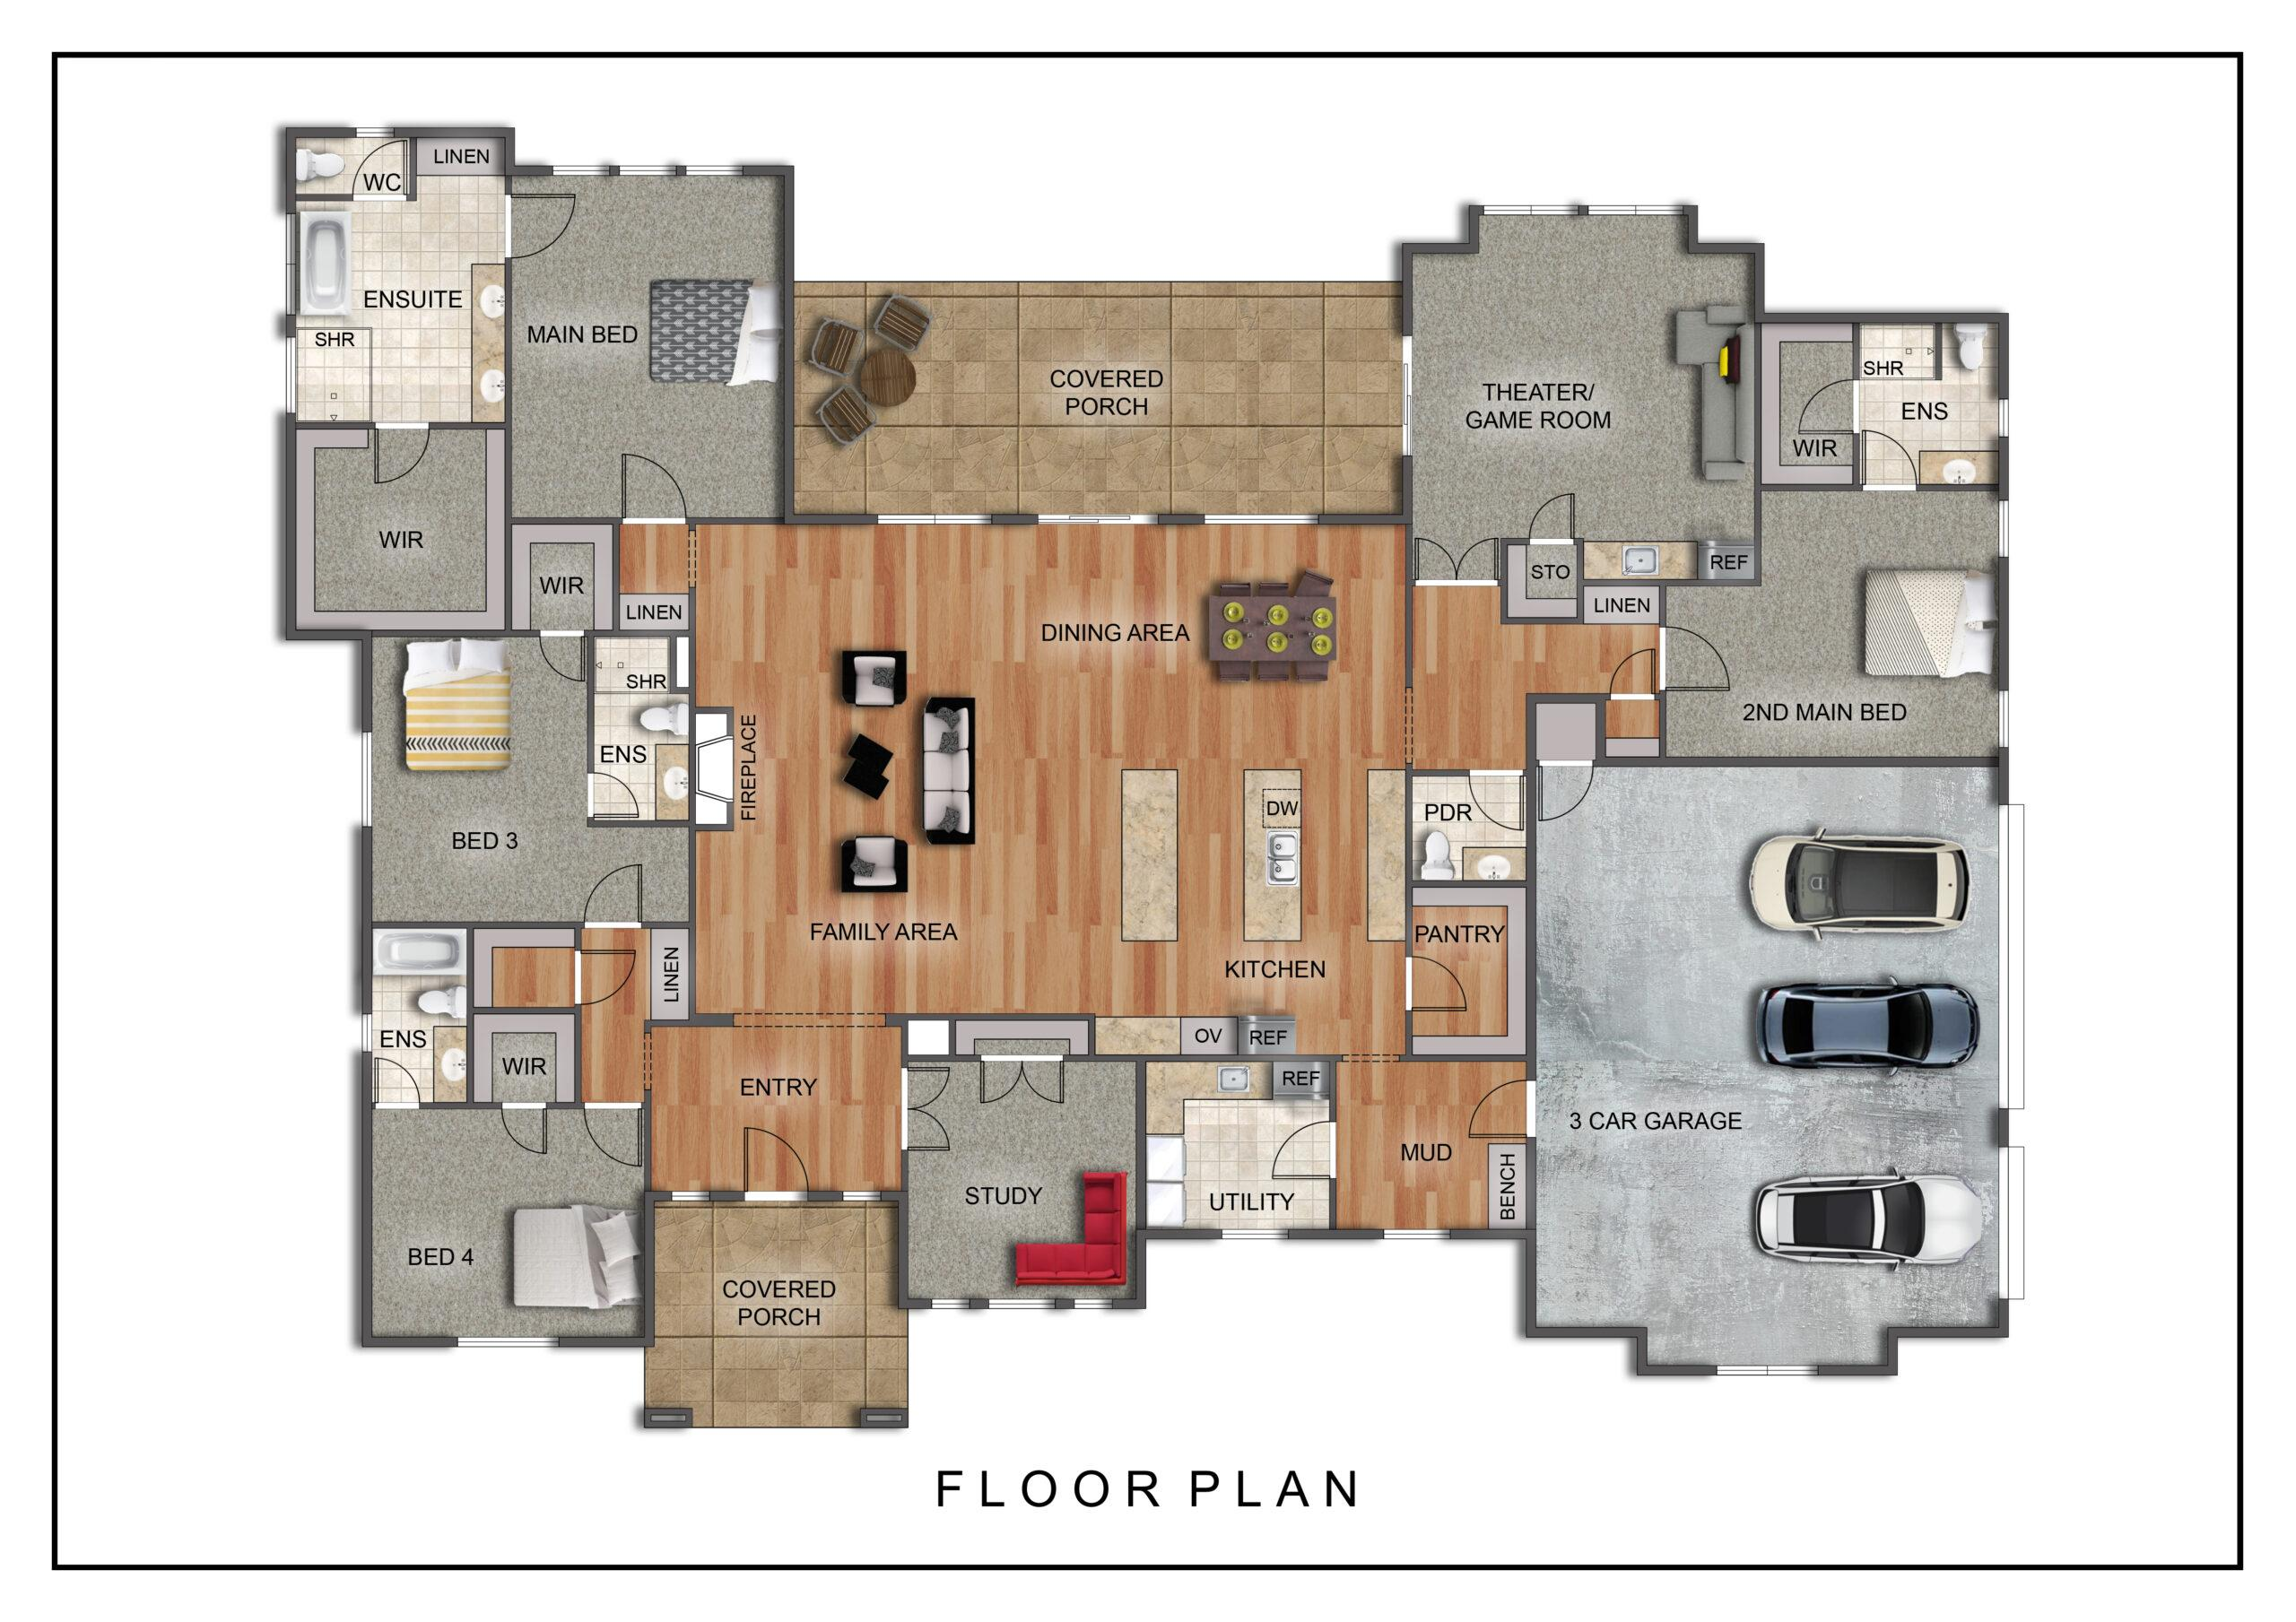room: (693, 523, 1410, 1018), (1399, 205, 1766, 585), (1757, 311, 2010, 765), (509, 170, 790, 518), (367, 634, 688, 923), (369, 1106, 648, 1341), (291, 132, 509, 425), (908, 1059, 1139, 1304), (291, 423, 507, 632), (1144, 1060, 1332, 1234), (369, 925, 469, 1104), (1411, 897, 1517, 1046), (1411, 774, 1529, 883), (472, 1011, 578, 1104), (470, 925, 578, 1009)
